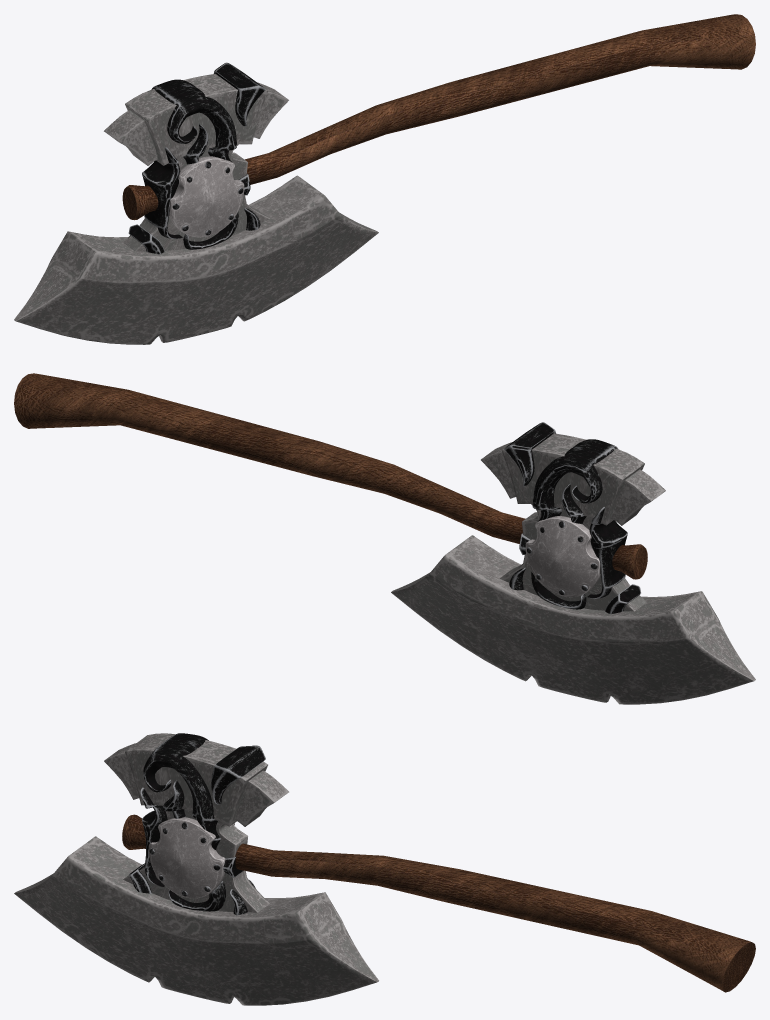
Rendered from 1772554369_dwarfish_medieval_axe.glb.
3 views of the same model, one above another, from view 1: azimuth 30°, elevation 25°; view 2: azimuth 150°, elevation 25°; view 3: azimuth 330°, elevation 25° (orthographic).
Visible parts, largest first — view 1: Blade_low, Handle_low, Corruption_low, Back_low, Centre_low, Middle_low; view 2: Blade_low, Handle_low, Corruption_low, Back_low, Centre_low, Middle_low; view 3: Blade_low, Handle_low, Corruption_low, Back_low, Centre_low, Middle_low.
Part boxes in pixels (bbox=[...]): Blade_low: bbox=[14, 175, 378, 344]; Handle_low: bbox=[122, 14, 755, 220]; Corruption_low: bbox=[128, 62, 265, 254]; Back_low: bbox=[104, 73, 288, 165]; Centre_low: bbox=[169, 156, 244, 237]; Middle_low: bbox=[123, 144, 269, 251]; Blade_low: bbox=[391, 535, 755, 704]; Handle_low: bbox=[14, 373, 647, 579]; Corruption_low: bbox=[504, 422, 640, 613]; Back_low: bbox=[481, 433, 665, 525]; Centre_low: bbox=[525, 516, 600, 597]; Middle_low: bbox=[500, 504, 646, 611]; Blade_low: bbox=[14, 836, 378, 1005]; Handle_low: bbox=[122, 814, 755, 992]; Corruption_low: bbox=[129, 733, 265, 915]; Back_low: bbox=[104, 733, 288, 826]; Centre_low: bbox=[148, 817, 234, 898]; Middle_low: bbox=[123, 806, 269, 912].
Bounding box in the file's own units: 2 × 0.655 × 0.1578.
5 materials, 5 textured.
